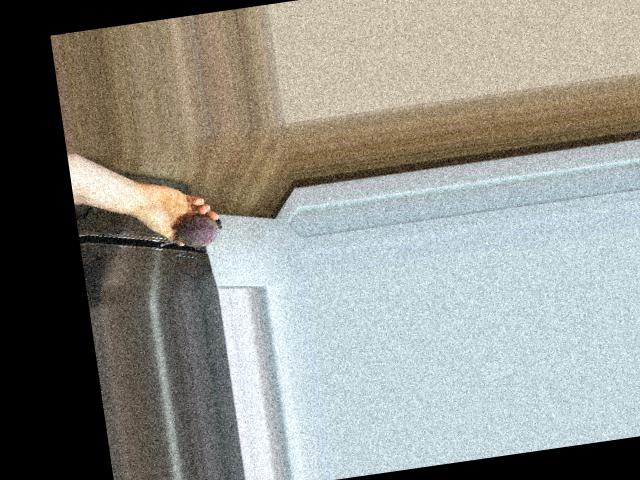beet: (157, 212, 225, 251)
